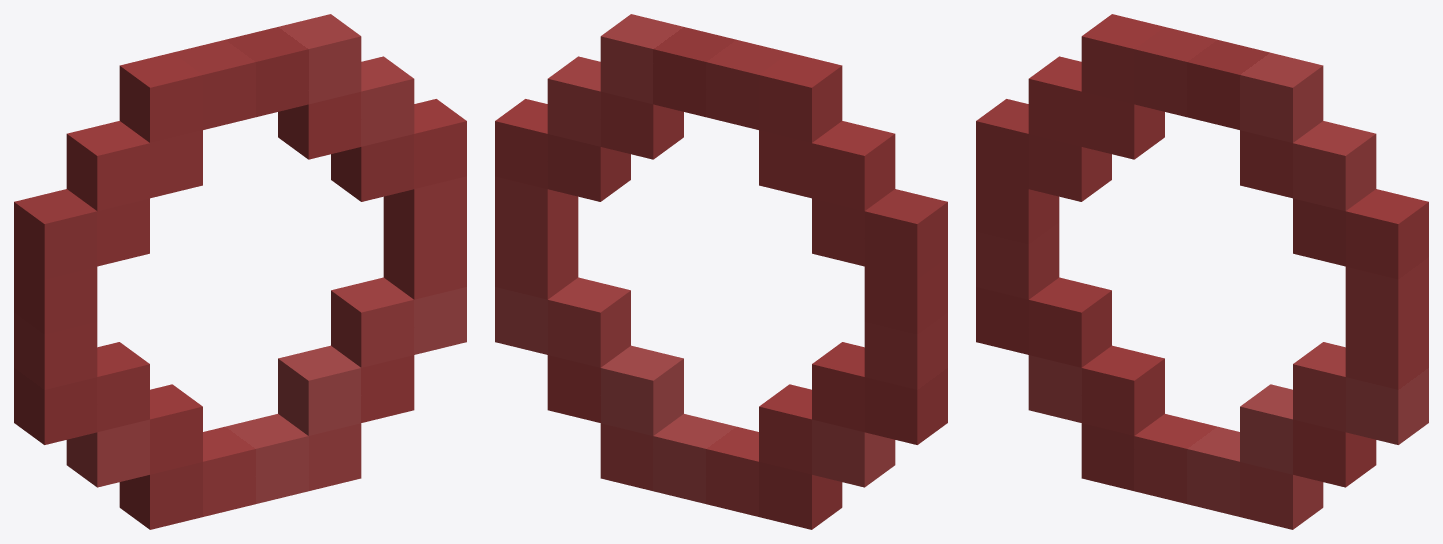
Rendered from Altar_BloodMeter_11.fbx.
3 views of the same model, side by side, from view 1: azimuth 30°, elevation 25°; view 2: azimuth 150°, elevation 25°; view 3: azimuth 330°, elevation 25° (orthographic).
Parts seen in each view (by area): view 1: Altar_BloodMeter_11; view 2: Altar_BloodMeter_11; view 3: Altar_BloodMeter_11.
Part boxes in pixels (left/top/right/bottom): Altar_BloodMeter_11: left=14, top=14, right=466, bottom=529; Altar_BloodMeter_11: left=495, top=14, right=947, bottom=529; Altar_BloodMeter_11: left=976, top=14, right=1428, bottom=529.
Bounding box in the file's own units: 8 × 8 × 1.
1 material, 1 textured.
